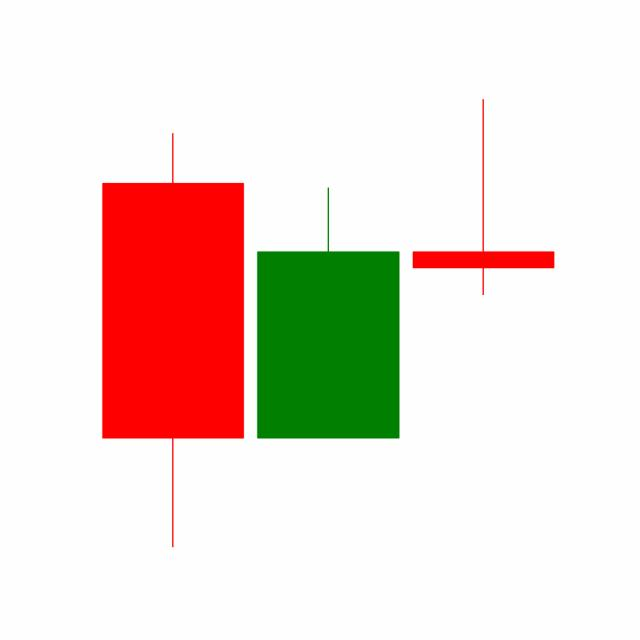Gravestone Doji: (405, 96, 561, 298)
